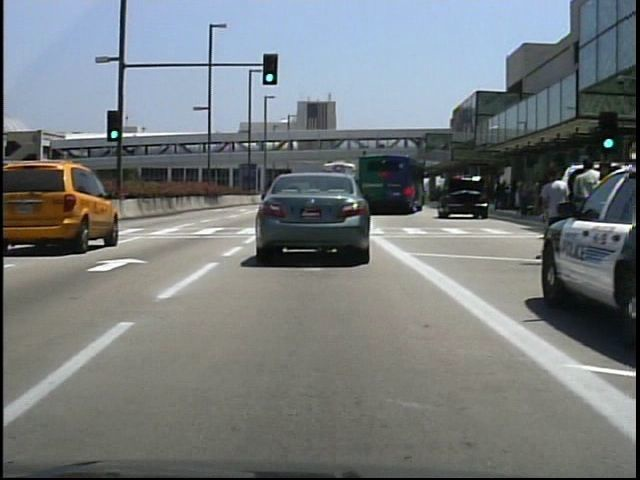person: (571, 153, 611, 276), (534, 161, 574, 266), (22, 166, 40, 228), (42, 170, 64, 220)
